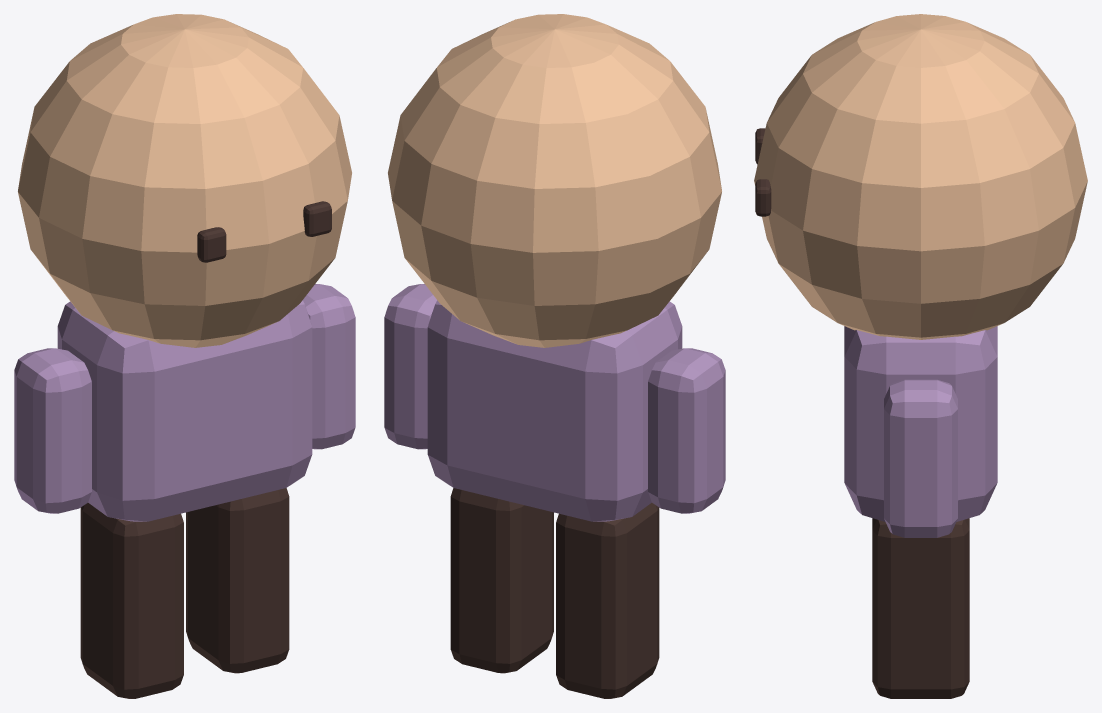
Rendered from kar_warga_pakRT.fbx.
The picture shows the model from 3 angles, left to right: view 1: azimuth 30°, elevation 25°; view 2: azimuth 150°, elevation 25°; view 3: azimuth 270°, elevation 25°; orthographic projection.
Parts seen in each view (by area): view 1: kar_warga_pakRT; view 2: kar_warga_pakRT; view 3: kar_warga_pakRT.
Part boxes in pixels (bbox=[...]): kar_warga_pakRT: bbox=[14, 14, 355, 698]; kar_warga_pakRT: bbox=[384, 14, 725, 698]; kar_warga_pakRT: bbox=[754, 14, 1087, 698].
Size of the model in its own units: 79 by 151 by 72.
Materials: 1 (1 with a texture image).
